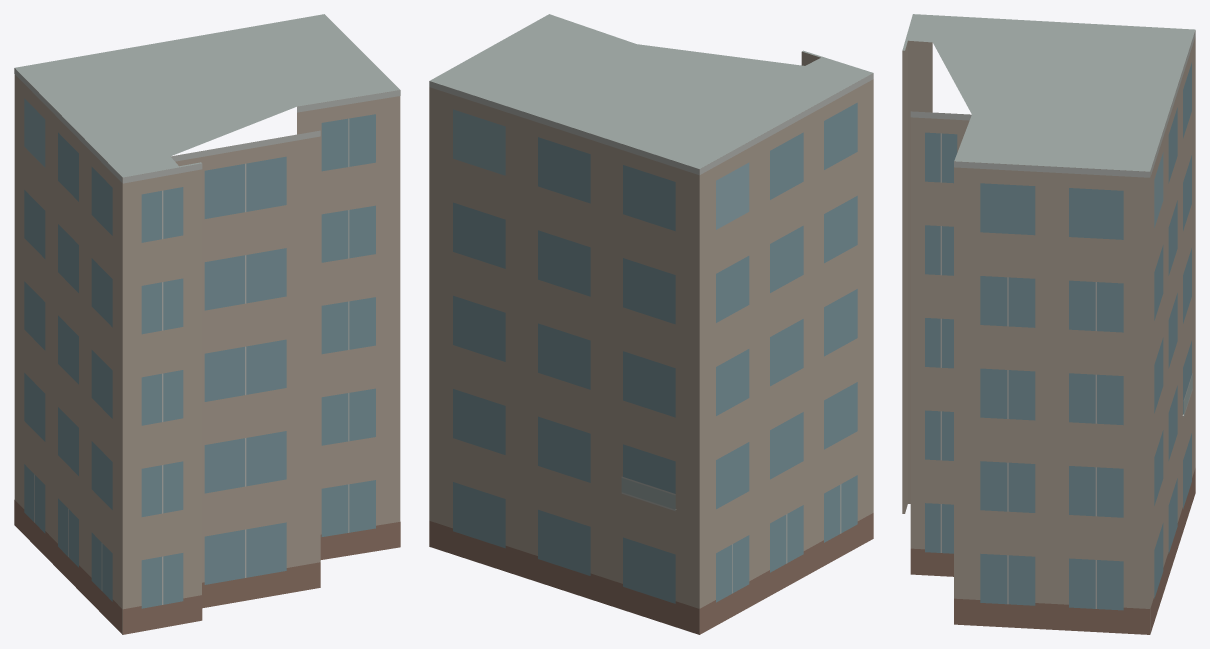
Rendered from survey-upis-32693546.glb.
The picture shows the model from 3 angles, left to right: view 1: azimuth 30°, elevation 25°; view 2: azimuth 150°, elevation 25°; view 3: azimuth 270°, elevation 25°; orthographic projection.
Visible parts, largest first — view 1: survey-upis-32693546.tmp; view 2: survey-upis-32693546.tmp; view 3: survey-upis-32693546.tmp.
Boxes of the visible parts, box(x1,y1,x2,y2) form: survey-upis-32693546.tmp: box(14, 14, 400, 634); survey-upis-32693546.tmp: box(429, 14, 873, 634); survey-upis-32693546.tmp: box(902, 14, 1195, 634).
Size of the model in its own units: 13.55 by 18.54 by 10.65.
